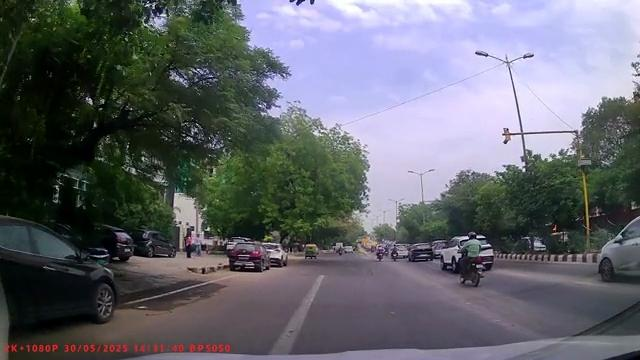motorcycle_with_helmet: (457, 231, 486, 287)
